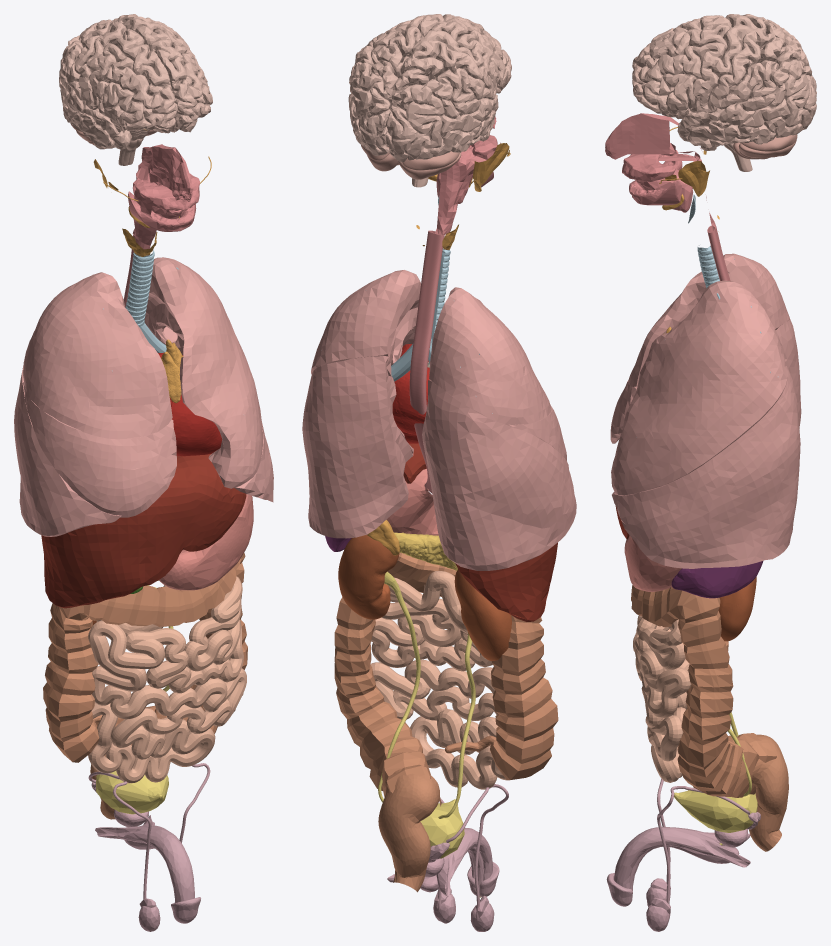
The model's file is organes.glb.
3 renders of one model, left to right at view 1: azimuth 30°, elevation 25°; view 2: azimuth 150°, elevation 25°; view 3: azimuth 270°, elevation 25°, orthographic. The views are drawn at different scales.
Parts seen in each view (by area): view 1: Jejunum, Superior lobe of right lung, Liver, Superior lobe of left lung, Middle lobe of right lung, Ascending colon, Inferior lobe of right lung, Transverse colon, Stomach, Corpus cavernosum of penis, Gingiva, Middle frontal gyrus.r (+17 smaller); view 2: Inferior lobe of right lung, Inferior lobe of left lung, Jejunum, Superior lobe of right lung, Descending colon, Ascending colon, Superior lobe of left lung, Sigmoid colon, Liver, Kidney.l (BodyParts3D FMA7205), Oesophagus, Kidney.r (BodyParts3D FMA7204) (+30 smaller); view 3: Superior lobe of left lung, Inferior lobe of left lung, Descending colon, Jejunum, Superior lobe of right lung, Sigmoid colon, Corpus cavernosum of penis, Mucosa of nasal cavity, Urinary bladder, Gingiva, Spleen, Middle frontal gyrus.l (+27 smaller).
Boxes of the visible parts, box(x1,y1,x2,y2) form: Jejunum: box(88, 576, 246, 783); Superior lobe of right lung: box(23, 272, 172, 439); Liver: box(41, 453, 246, 608); Superior lobe of left lung: box(144, 257, 262, 488); Middle lobe of right lung: box(23, 382, 176, 517); Ascending colon: box(43, 603, 99, 762); Inferior lobe of right lung: box(14, 366, 121, 536); Transverse colon: box(84, 558, 240, 626); Stomach: box(159, 494, 253, 590); Corpus cavernosum of penis: box(95, 815, 194, 902); Gingiva: box(128, 173, 199, 231); Middle frontal gyrus.r: box(102, 43, 164, 124); Inferior lobe of right lung: box(422, 380, 576, 570); Inferior lobe of left lung: box(302, 355, 413, 538); Jejunum: box(370, 577, 506, 789); Superior lobe of right lung: box(429, 287, 551, 424); Descending colon: box(334, 597, 441, 806); Ascending colon: box(490, 615, 558, 780); Superior lobe of left lung: box(311, 270, 420, 376); Sigmoid colon: box(378, 769, 439, 892); Liver: box(403, 443, 557, 621); Kidney.l (BodyParts3D FMA7205): box(338, 535, 399, 619); Oesophagus: box(409, 230, 444, 493); Kidney.r (BodyParts3D FMA7204): box(454, 569, 511, 661); Superior lobe of left lung: box(611, 280, 788, 495); Inferior lobe of left lung: box(612, 366, 800, 568); Descending colon: box(677, 594, 776, 797); Jejunum: box(633, 615, 691, 782); Superior lobe of right lung: box(628, 253, 789, 386); Sigmoid colon: box(749, 734, 788, 851); Corpus cavernosum of penis: box(613, 827, 750, 888); Mucosa of nasal cavity: box(605, 113, 675, 159); Urinary bladder: box(674, 790, 757, 832); Gingiva: box(622, 150, 682, 205); Spleen: box(671, 561, 763, 598); Middle frontal gyrus.l: box(635, 42, 727, 105).
Size of the model in its own units: 0.2618 by 0.9732 by 0.2073.
